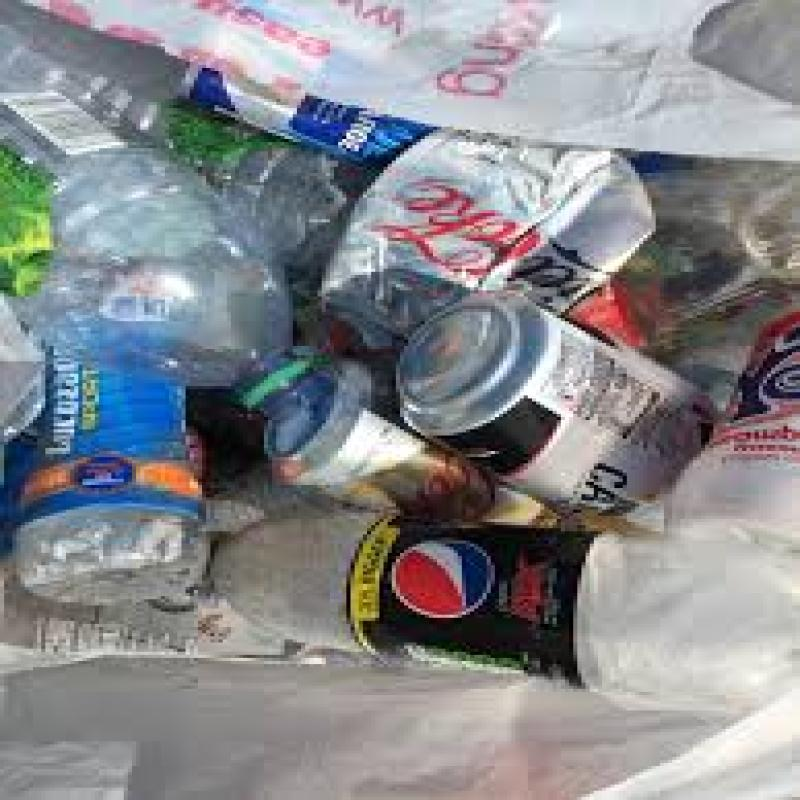botella: (0, 30, 325, 416), (210, 495, 800, 705), (14, 36, 365, 250), (0, 0, 444, 156), (1, 326, 224, 598)
